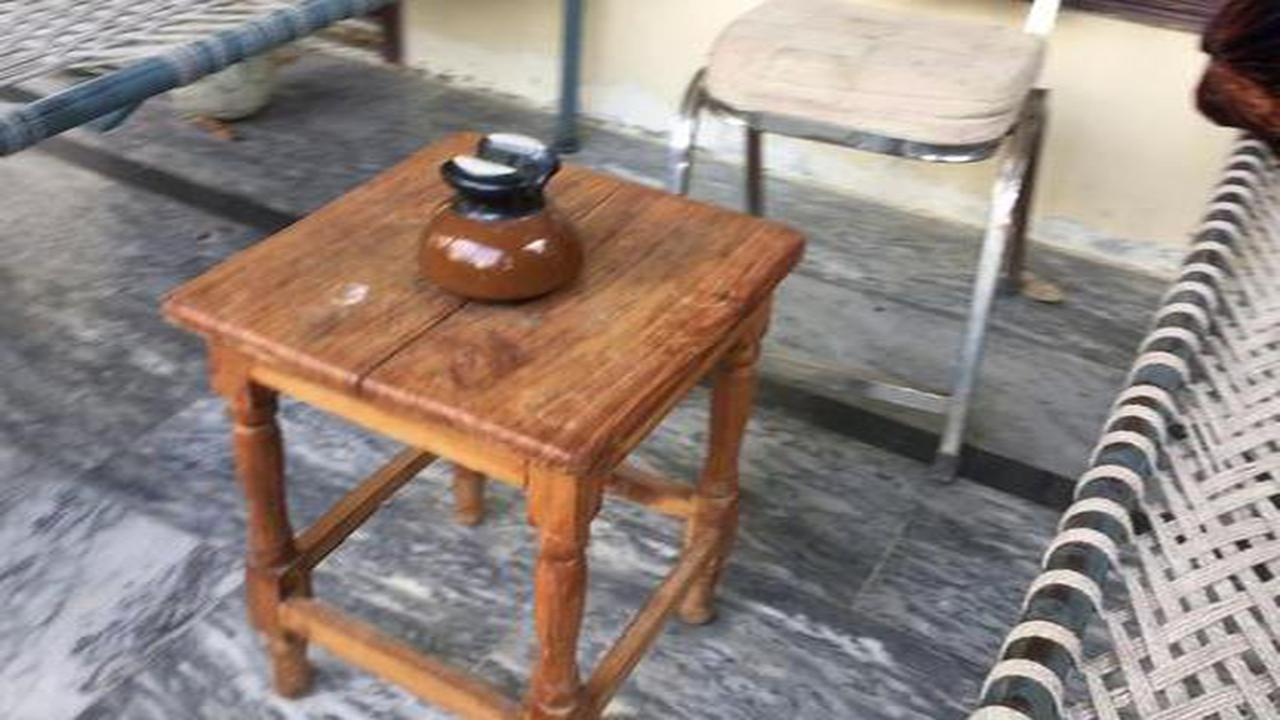insulator_pin: (407, 111, 610, 326)
